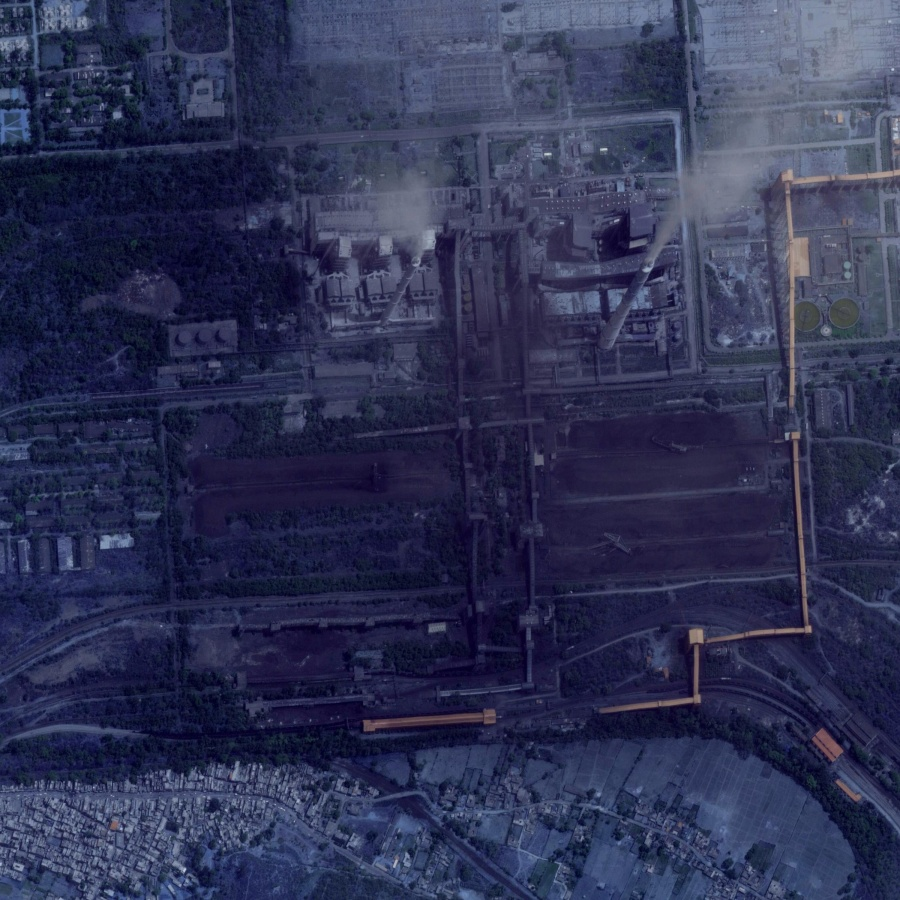PowerPlant: (159, 196, 792, 761)
